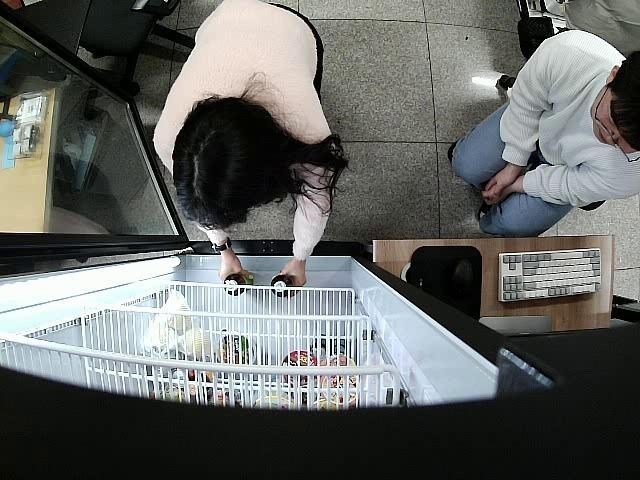19_17cha: (224, 272, 255, 296), (270, 274, 297, 298)
